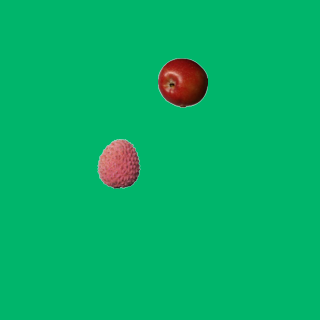Apple Braeburn: (157, 57, 207, 107)
Lychee: (93, 138, 143, 188)
